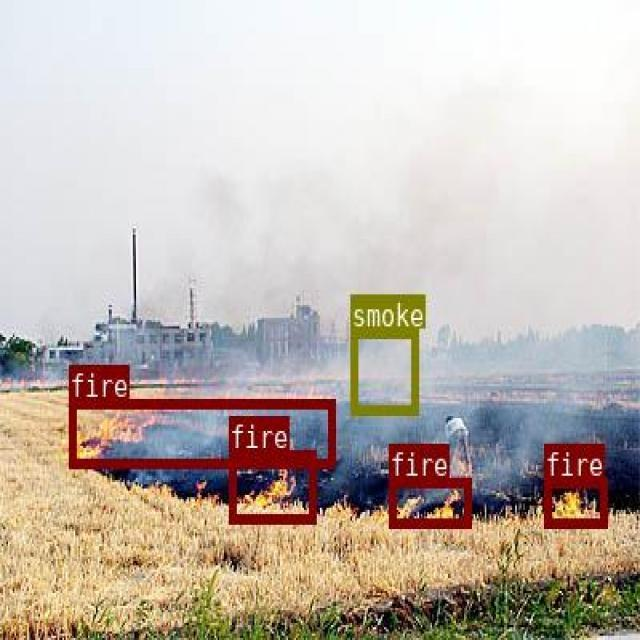fire: (68, 397, 333, 467), (229, 450, 314, 522), (389, 477, 469, 526), (543, 478, 605, 527)
smoke: (350, 328, 417, 414)
